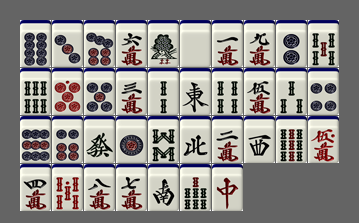0m: (308, 116, 339, 163)
0p: (52, 68, 83, 115)
0s: (52, 164, 83, 211)
1m: (212, 20, 243, 67)
1p: (116, 116, 147, 163)
1s: (148, 20, 179, 67)
1z: (180, 68, 211, 115)
2m: (212, 116, 243, 163)
2p: (276, 20, 307, 67)
2s: (148, 68, 179, 115)
2z: (148, 164, 179, 211)
3m: (116, 68, 147, 115)
3p: (52, 20, 83, 67)
3s: (276, 68, 307, 115)
3z: (244, 116, 275, 163)
4m: (20, 164, 51, 211)
4p: (308, 68, 339, 115)
4s: (212, 68, 243, 115)
4z: (180, 116, 211, 163)
5m: (244, 68, 275, 115)
5p: (84, 68, 115, 115)
5s: (308, 20, 339, 67)
5z: (180, 20, 211, 67)
6m: (116, 20, 147, 67)
6p: (52, 116, 83, 163)
6s: (20, 68, 51, 115)
6z: (84, 116, 115, 163)
7m: (116, 164, 147, 211)
7p: (84, 20, 115, 67)
7s: (180, 164, 211, 211)
7z: (212, 164, 243, 211)
8m: (84, 164, 115, 211)
8p: (20, 20, 51, 67)
8s: (148, 116, 179, 163)
9m: (244, 20, 275, 67)
9p: (20, 116, 51, 163)
9s: (276, 116, 307, 163)
